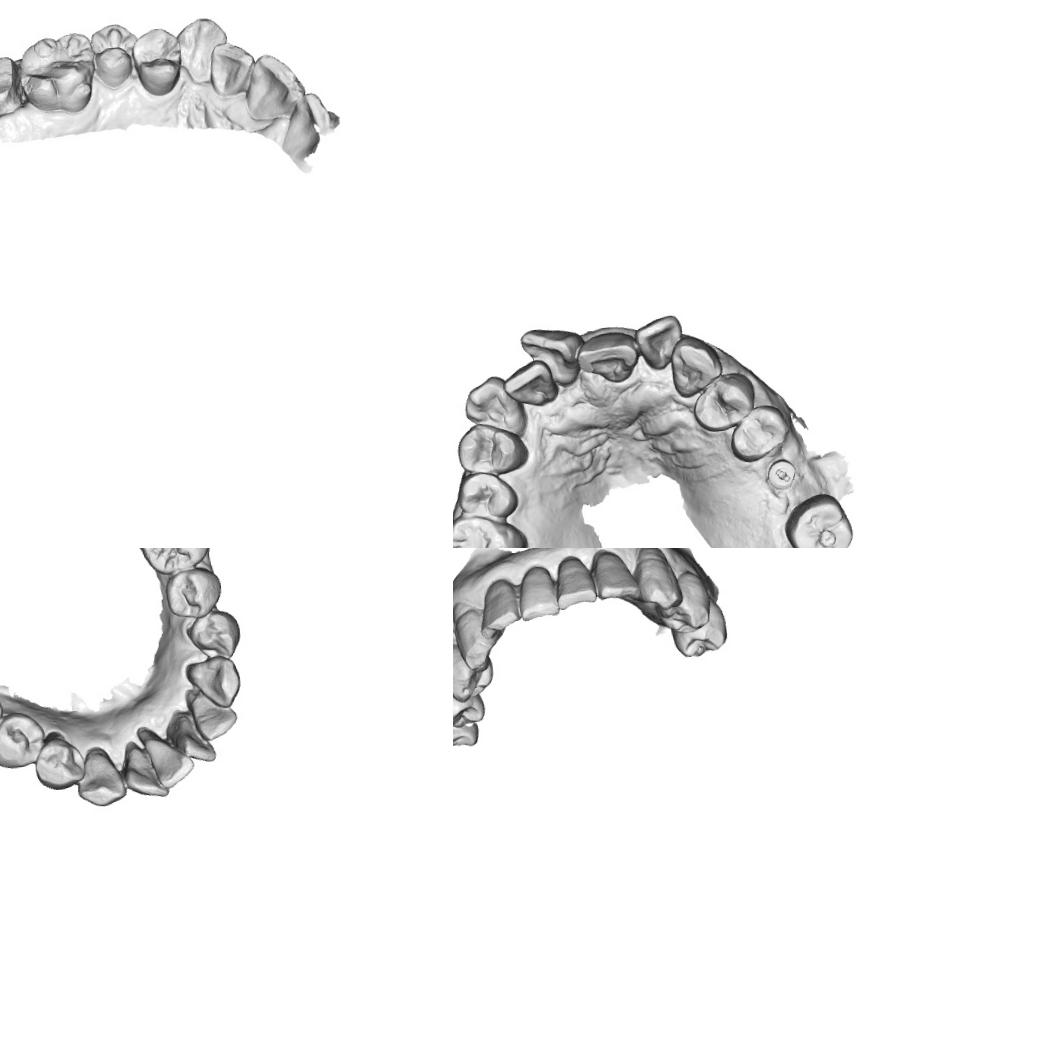canine: (173, 10, 232, 88), (460, 370, 527, 438), (453, 597, 508, 673), (667, 332, 725, 398), (180, 652, 244, 710), (72, 743, 128, 809), (631, 548, 683, 611)
crown: (0, 49, 27, 119)
implant_minus: (762, 456, 800, 492)
incisor: (238, 49, 308, 122), (518, 323, 588, 391), (572, 327, 641, 387), (142, 729, 196, 792), (631, 312, 686, 372), (498, 357, 560, 408), (204, 39, 254, 99), (587, 548, 641, 602), (170, 714, 222, 770), (118, 744, 169, 800), (513, 562, 560, 622), (551, 552, 598, 611), (476, 576, 522, 633), (190, 694, 240, 745)
molar: (12, 29, 100, 120), (780, 489, 856, 548), (453, 509, 530, 548), (125, 548, 214, 578), (453, 713, 480, 750)
premolar: (128, 22, 186, 99), (454, 418, 528, 478), (689, 370, 757, 433), (650, 568, 712, 636), (666, 594, 728, 660), (726, 402, 790, 464), (87, 19, 140, 93), (29, 728, 87, 792), (454, 467, 520, 522), (164, 562, 224, 620), (183, 607, 245, 661), (0, 707, 49, 771), (453, 638, 496, 704), (453, 671, 485, 731)
